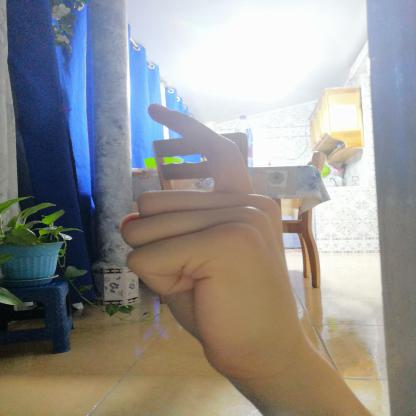RAA: (101, 95, 322, 382)
